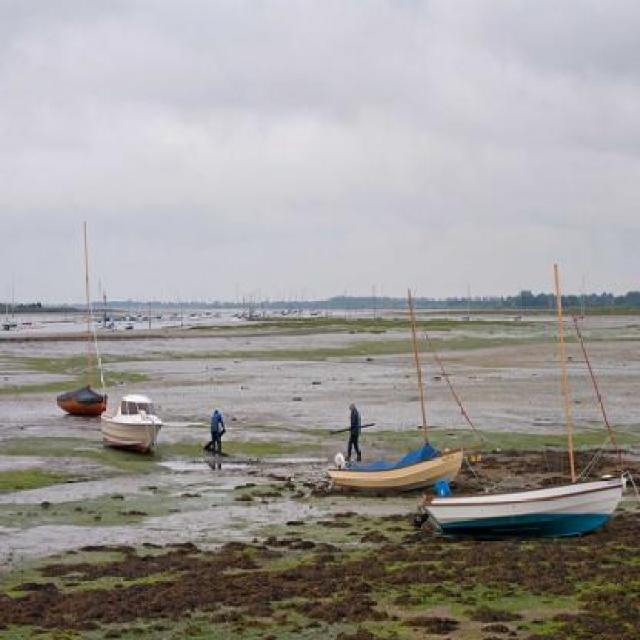ship: (415, 255, 623, 537), (327, 286, 461, 488), (54, 219, 108, 415), (99, 388, 163, 448)
